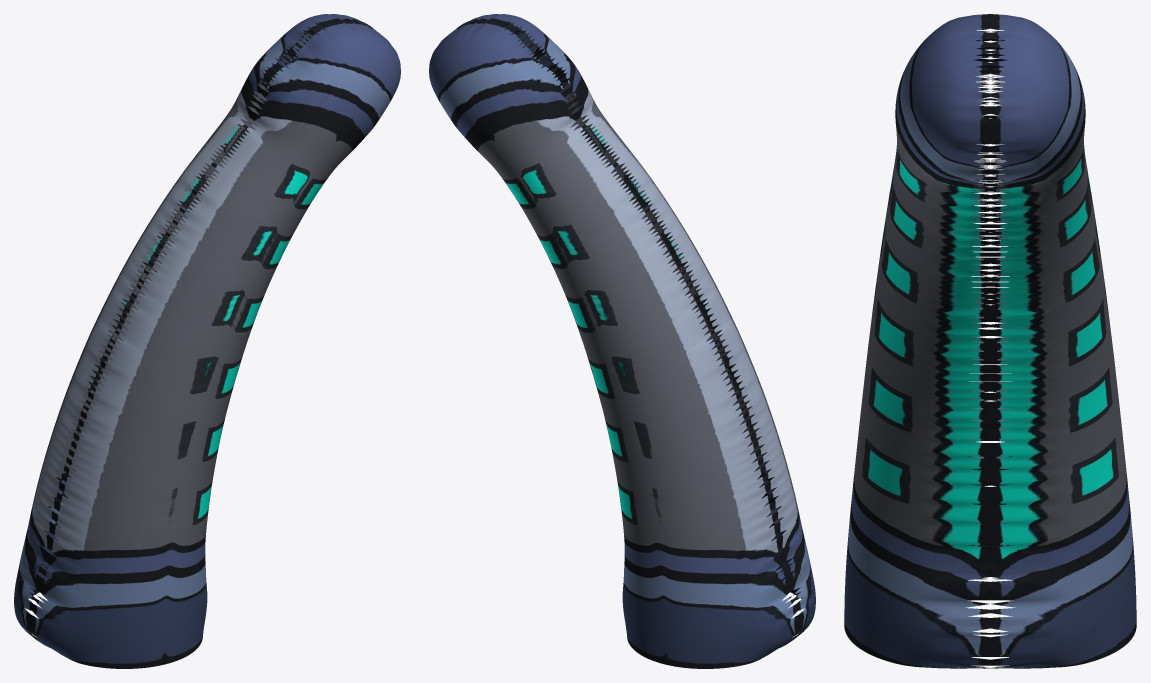
Rendered from outer_conduit.glb.
3 renders of one model, left to right at view 1: azimuth 30°, elevation 25°; view 2: azimuth 150°, elevation 25°; view 3: azimuth 270°, elevation 25°, orthographic. The views are drawn at different scales.
Visible parts, largest first — view 1: outer_conduit; view 2: outer_conduit; view 3: outer_conduit.
Part boxes in pixels (bbox=[...]): outer_conduit: bbox=[14, 14, 400, 668]; outer_conduit: bbox=[429, 14, 815, 668]; outer_conduit: bbox=[844, 14, 1136, 668].
Bounding box in the file's own units: 0.9841 × 1.43 × 0.5056.
Materials: 1 (1 with a texture image).
